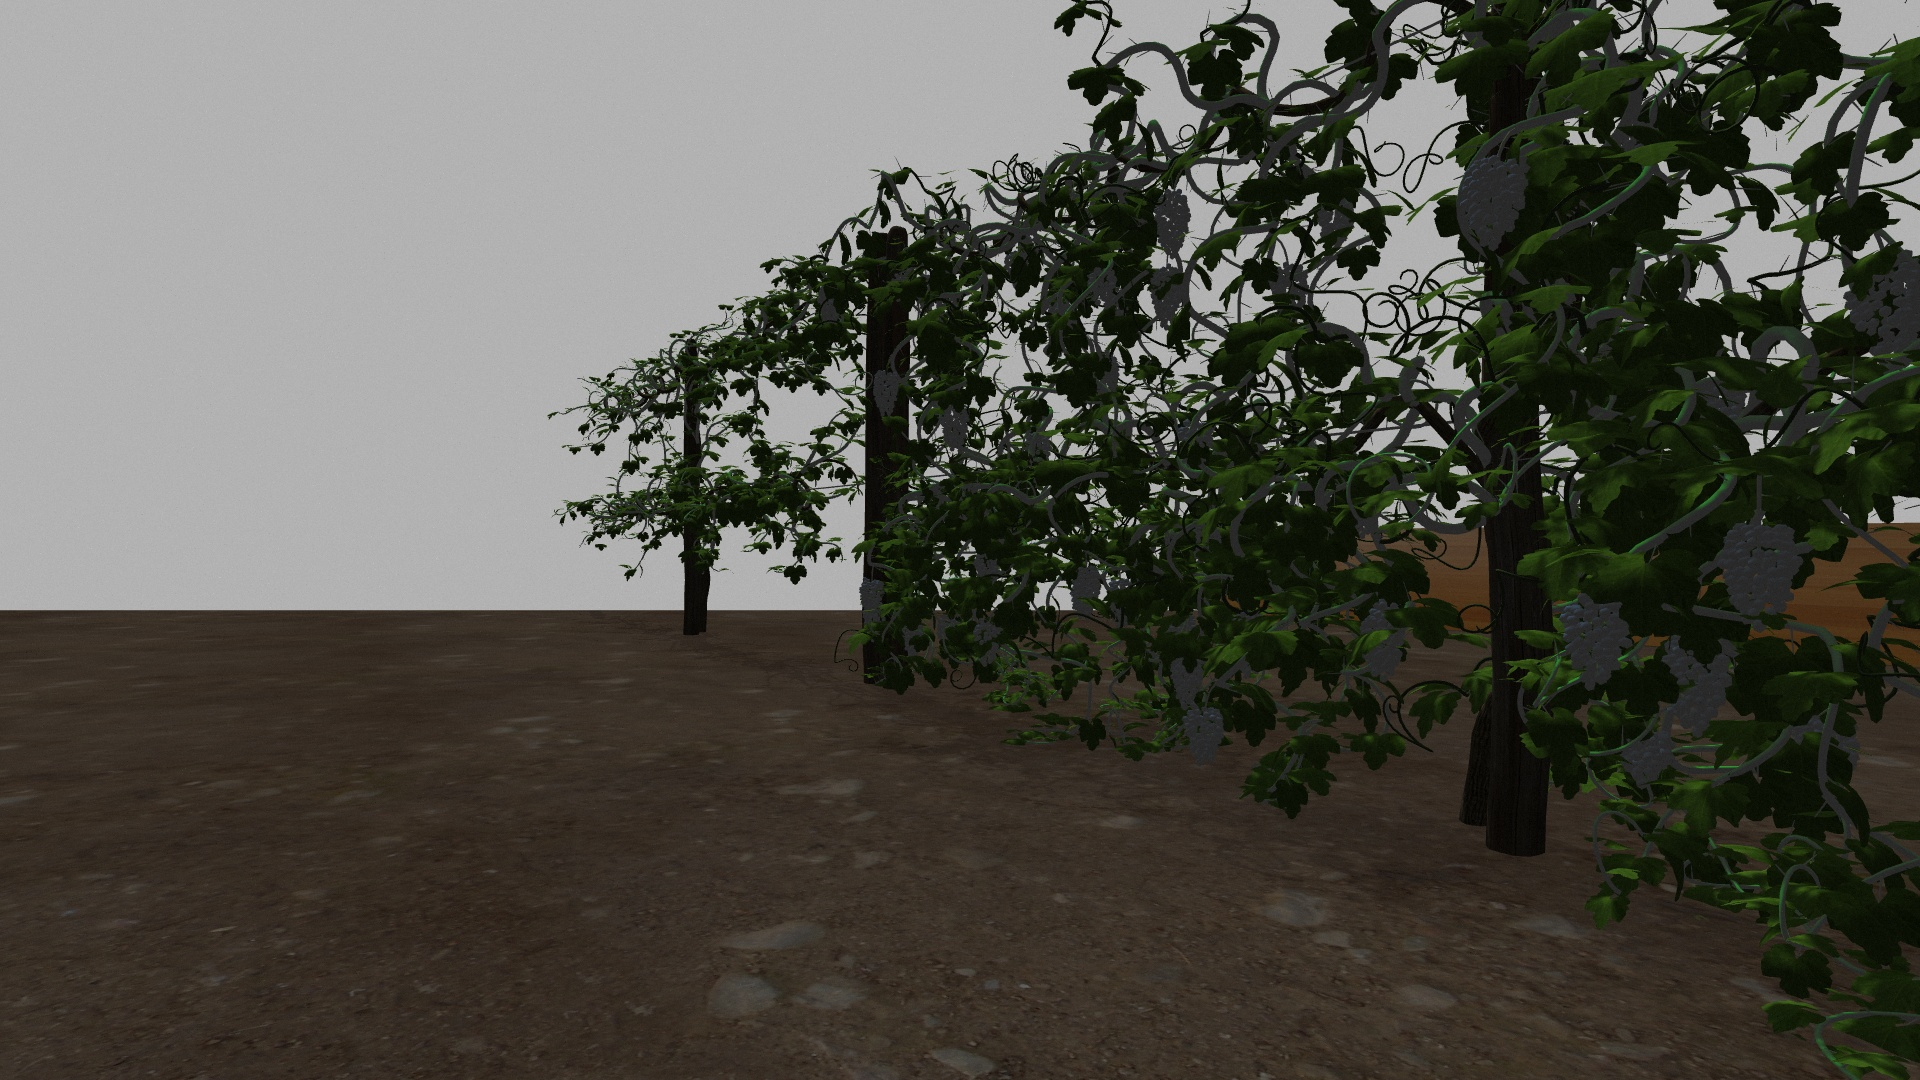grape: (1713, 516, 1803, 621), (1844, 240, 1911, 367), (1453, 152, 1530, 258), (1667, 634, 1738, 735), (1559, 597, 1633, 692), (1362, 600, 1407, 682), (1619, 733, 1673, 790), (1153, 189, 1192, 261), (1182, 708, 1225, 767), (1149, 265, 1185, 332), (1065, 564, 1102, 618), (1170, 657, 1204, 708), (938, 404, 971, 452), (971, 624, 1002, 669), (872, 371, 899, 419), (857, 579, 885, 624), (1087, 268, 1121, 302), (815, 290, 841, 324)
